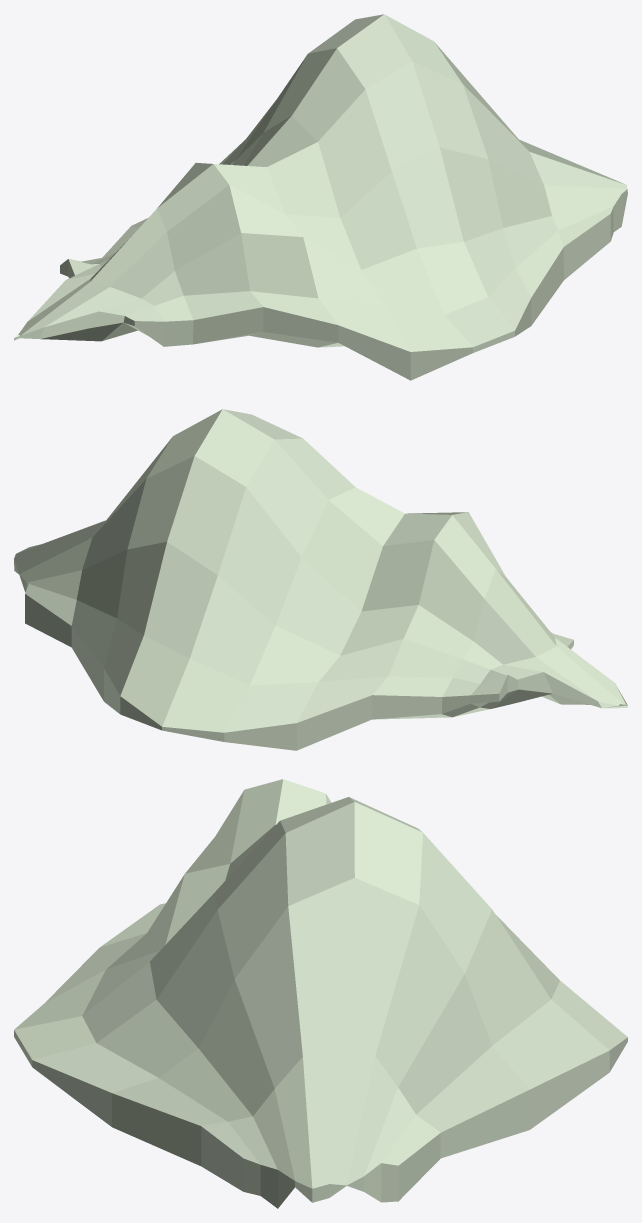
Rendered from clouds.glb.
The picture shows the model from 3 angles, top to bottom: view 1: azimuth 30°, elevation 25°; view 2: azimuth 150°, elevation 25°; view 3: azimuth 270°, elevation 25°; orthographic projection. The views are drawn at different scales.
Visible parts, largest first — view 1: cloud; view 2: cloud; view 3: cloud.
Part boxes in pixels (x1,y1,x2,y2): cloud: [14, 14, 627, 380]; cloud: [14, 409, 627, 750]; cloud: [14, 779, 627, 1208].
Bounding box in the file's own units: 3.39 × 1.34 × 2.45.
